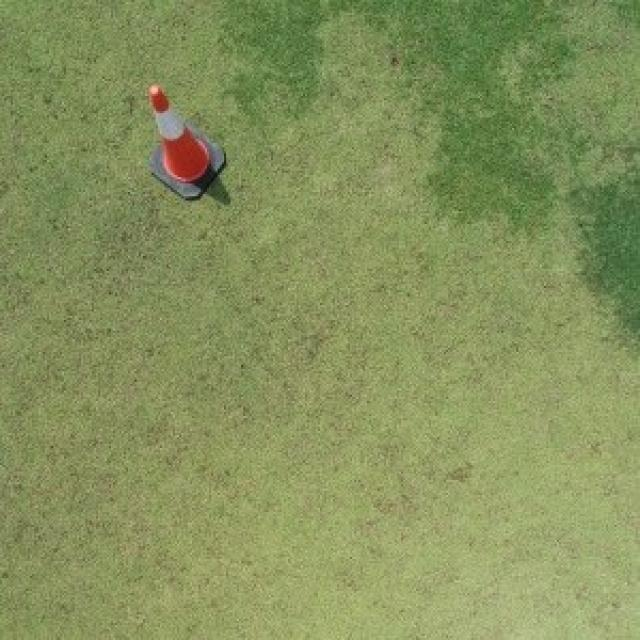cone: (147, 82, 230, 207)
